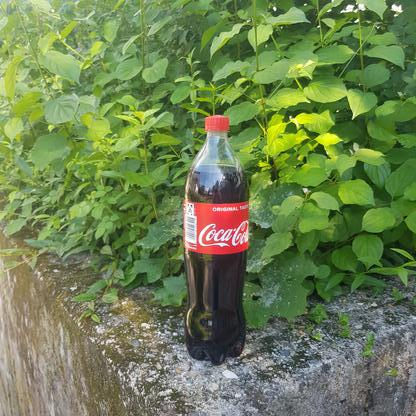coca-cola: (180, 115, 251, 366)
